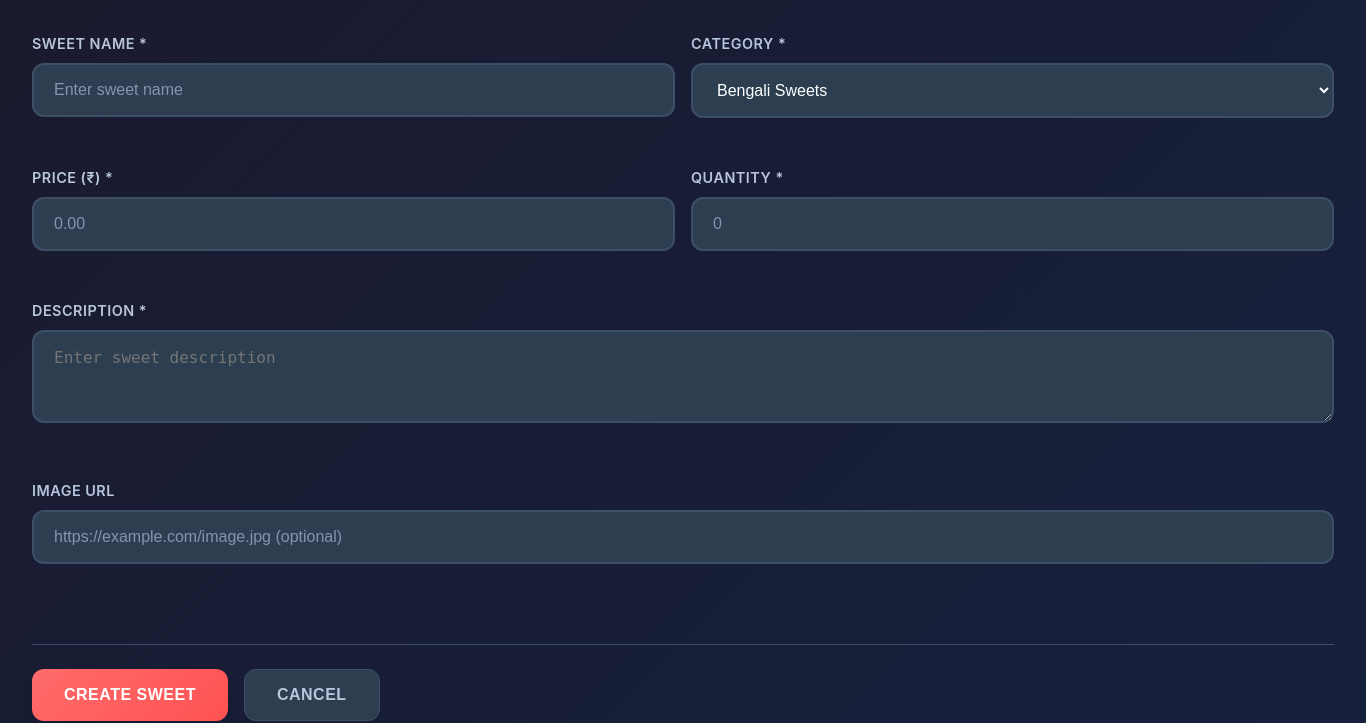
Scenario: SweetForm › should clear errors when user starts typing
Note: Trigger validation error
Click the button "Create Sweet" at x=130, y=695, box [32, 669, 228, 721]
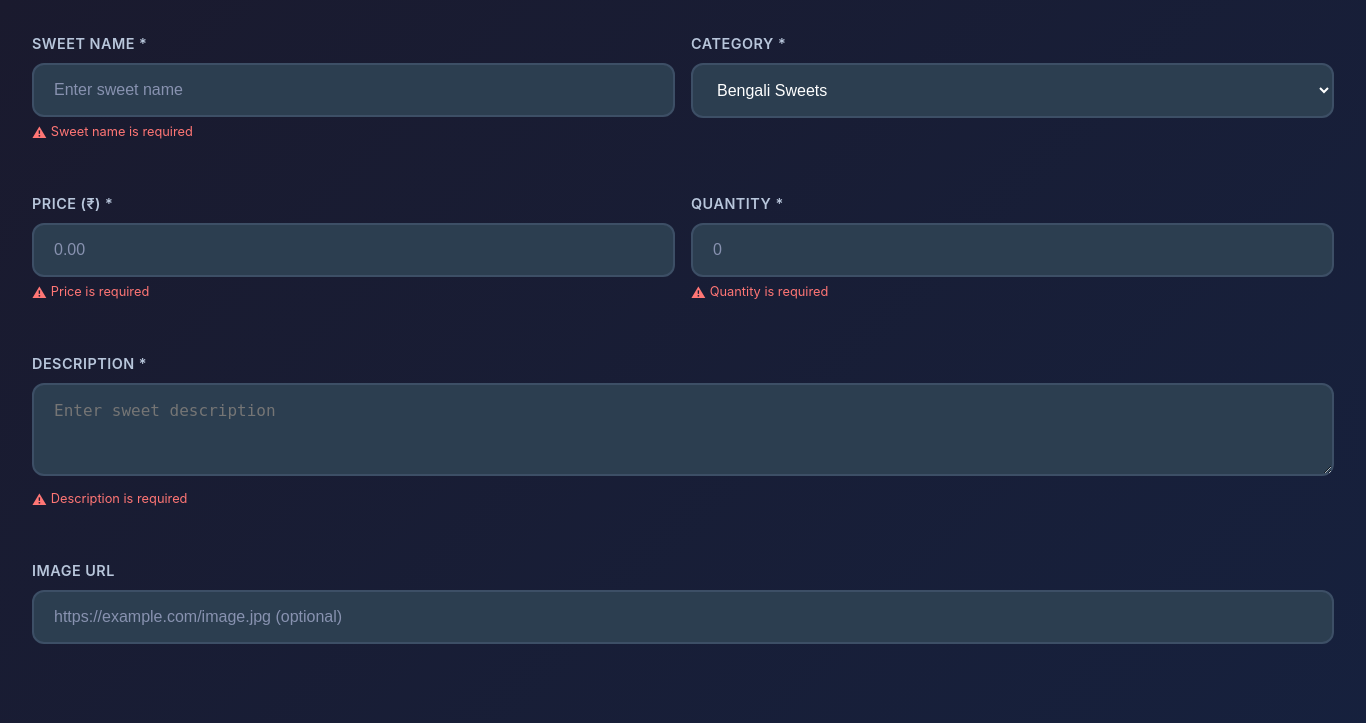
Expected: the text "Sweet name is required" is shown, [51, 124, 193, 139]
Note: Start typing to clear error
Type "T" into the field labelled "Sweet Name *" at x=354, y=90, box [32, 63, 675, 117]
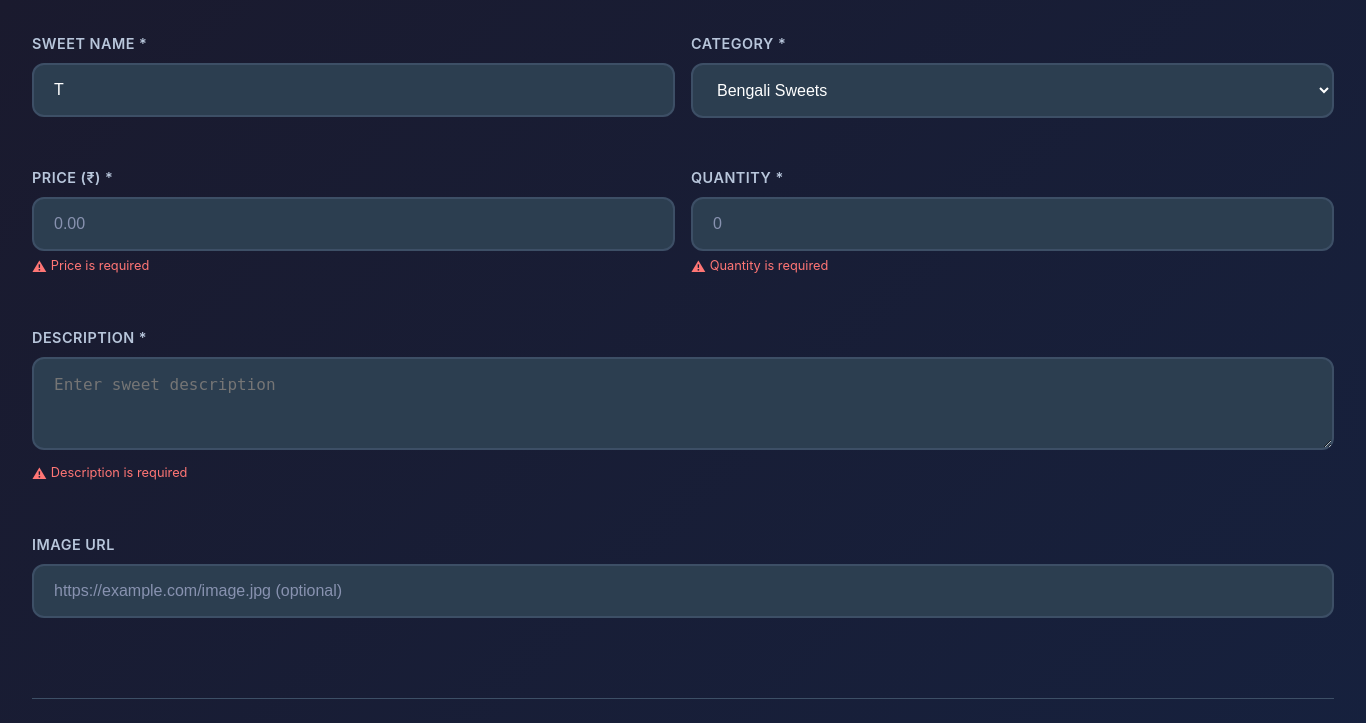
Expected: the text "Sweet name is required" is gone
